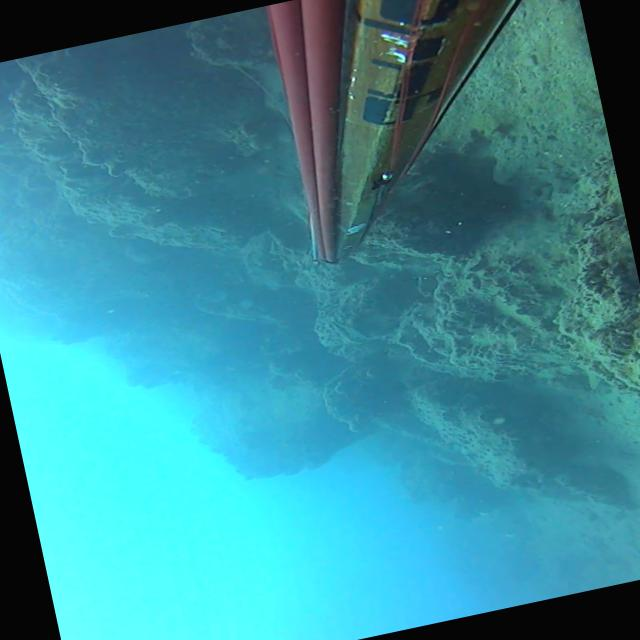Balon Baligi: (320, 308, 368, 348)
